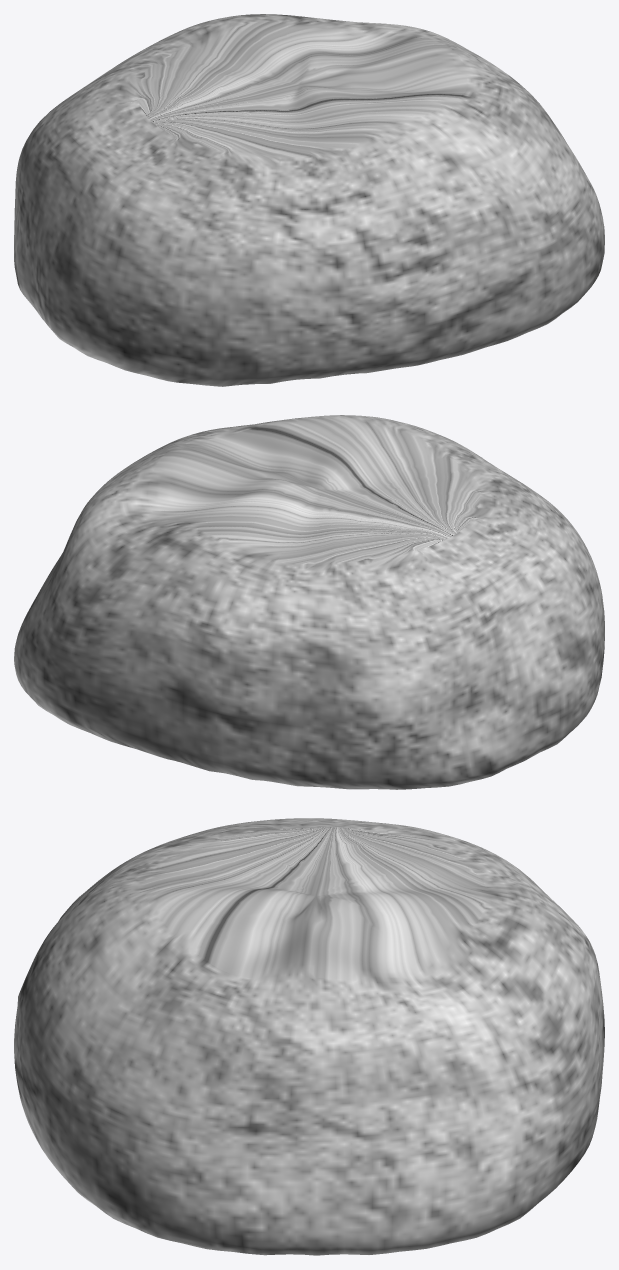
File: rock.obj
3 views of the same model, one above another, from view 1: azimuth 30°, elevation 25°; view 2: azimuth 150°, elevation 25°; view 3: azimuth 270°, elevation 25° (orthographic). The views are drawn at different scales.
Parts seen in each view (by area): view 1: Sphere; view 2: Sphere; view 3: Sphere.
Part boxes in pixels (left/top/right/bottom): Sphere: left=14, top=14, right=604, bottom=386; Sphere: left=14, top=415, right=604, bottom=789; Sphere: left=14, top=818, right=604, bottom=1255.
Bounding box in the file's own units: 1.34 × 0.5651 × 1.2.
